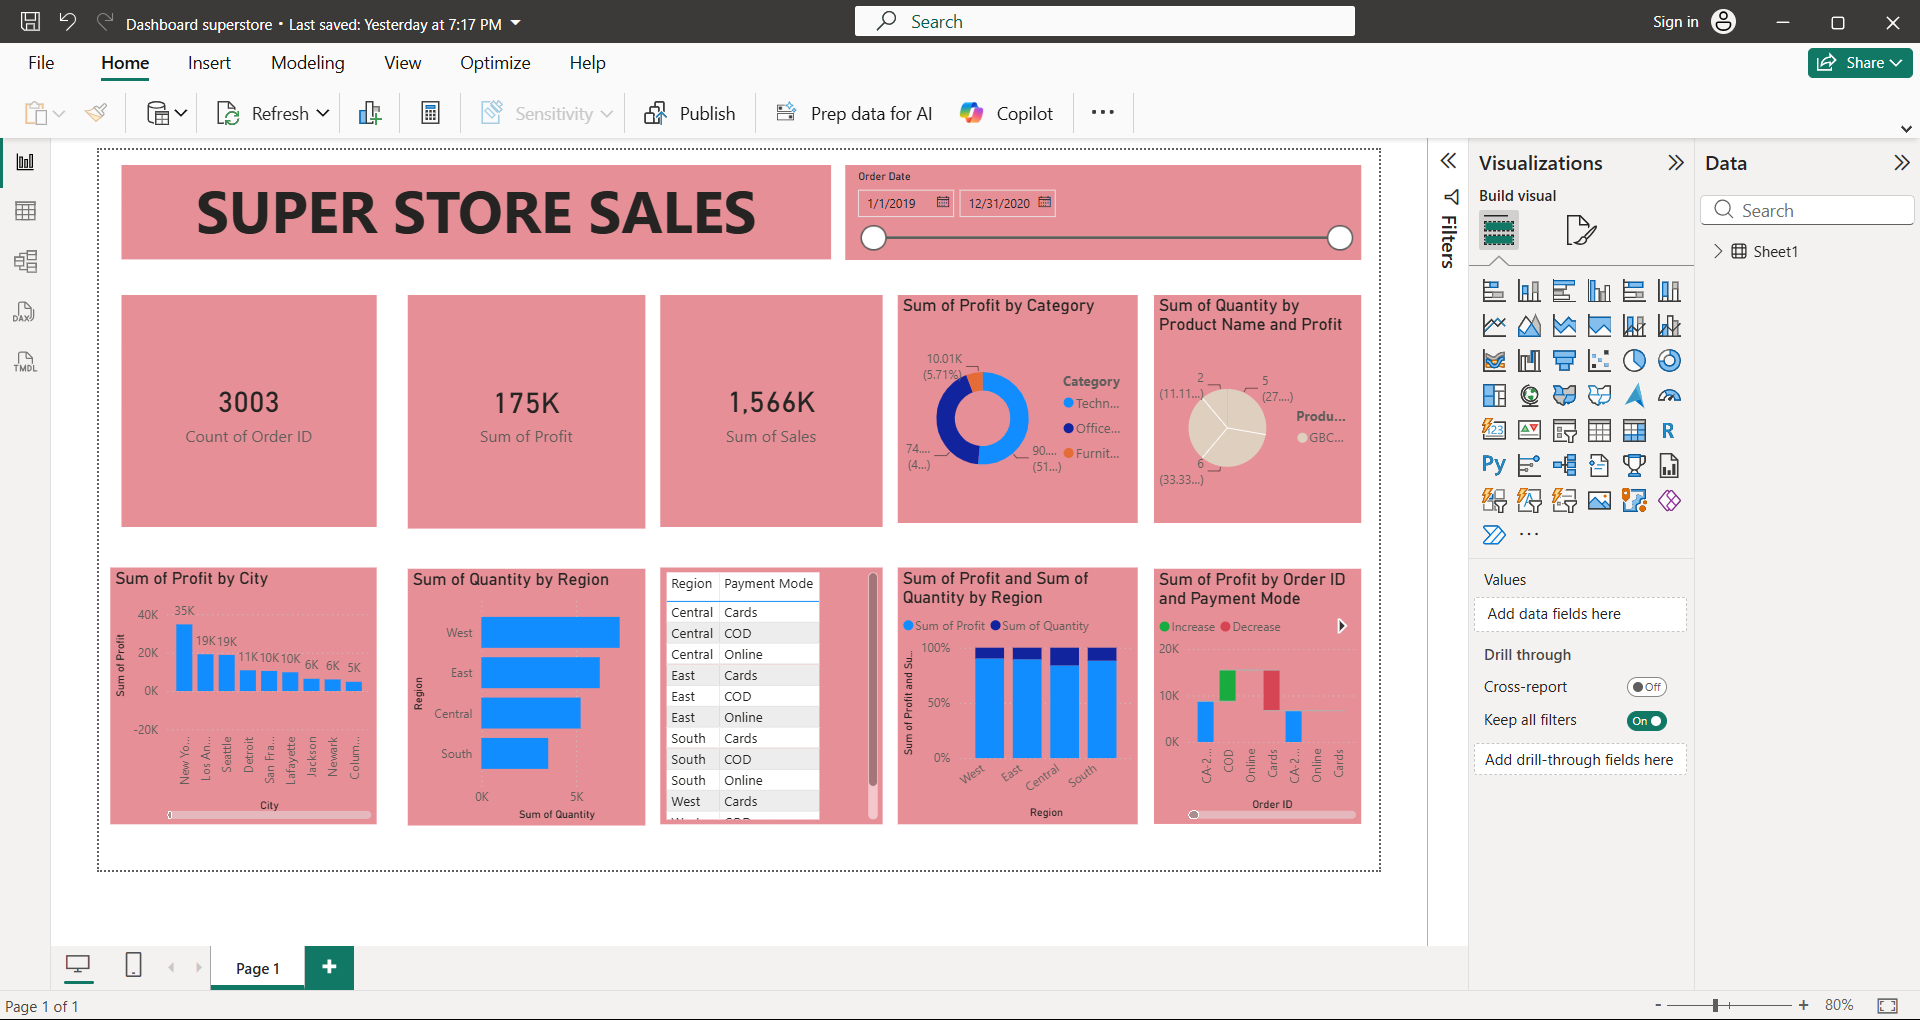

What the dashboard file says about the page in this screenshot:
{"tool":"powerbi","page":{"name":"Page 1","canvas":[1280,720],"ordinal":0},"visuals":[{"type":"columnChart","fields":{"Y":["Sum(Sheet1.Profit)"],"Category":["Sheet1.City"]},"box":[11,417.2,266.2,256.6],"z":0},{"type":"pieChart","fields":{"Y":["Sum(Sheet1.Quantity)"],"Series":["Sheet1.Profit"],"Category":["Sheet1.Product Name"]},"box":[1055.2,145.5,207.2,227.8],"z":1000},{"type":"card","fields":{"Values":["Count(Sheet1.Order ID)"]},"box":[22,145.5,255.2,231.9],"z":2000},{"type":"barChart","fields":{"Category":["Sheet1.Region"],"Y":["Sum(Sheet1.Quantity)"]},"box":[308.7,418.5,237.4,256.6],"z":3000},{"type":"tableEx","fields":{"Values":["Sheet1.Region","Sheet1.Payment Mode"]},"box":[561.2,417.2,222.3,256.6],"z":4000},{"type":"card","fields":{"Values":["Sum(Sheet1.Sales)"]},"box":[561.2,145.5,222.3,231.9],"z":5000},{"type":"slicer","fields":{"Values":["Sheet1.Order Date"]},"box":[746.5,15.1,516,94.7],"z":6000},{"type":"textbox","box":[22,15.1,709.4,94.7],"z":7000},{"type":"hundredPercentStackedColumnChart","fields":{"Y":["Sum(Sheet1.Profit)","Sum(Sheet1.Quantity)"],"Category":["Sheet1.Region"]},"box":[798.6,417.2,240.1,256.6],"z":8000},{"type":"card","fields":{"Values":["Sum(Sheet1.Profit)"]},"box":[308.7,145.5,237.4,233.3],"z":9000},{"type":"donutChart","fields":{"Category":["Sheet1.Category"],"Y":["Sum(Sheet1.Profit)"]},"box":[798.6,145.5,240.1,227.8],"z":10000},{"type":"waterfallChart","fields":{"Category":["Sheet1.Order ID"],"Breakdown":["Sheet1.Payment Mode"],"Y":["Sum(Sheet1.Profit)"]},"box":[1055.2,418.5,207.2,255.2],"z":11000}]}

Visuals, with their boxes on the page's 1280x720 design canvas (x1, y1, x2, y2). These are canvas units, not pixel positions in the 1920x1020 screenshot, which may show the page scaled, cropped or inside an application window:
columnChart - Sum(Sheet1.Profit) x Sheet1.City: Rect(11, 417, 277, 674)
pieChart - Sum(Sheet1.Quantity) x Sheet1.Profit: Rect(1055, 146, 1262, 373)
card - Count(Sheet1.Order ID): Rect(22, 146, 277, 377)
barChart - Sheet1.Region x Sum(Sheet1.Quantity): Rect(309, 418, 546, 675)
tableEx - Sheet1.Region x Sheet1.Payment Mode: Rect(561, 417, 784, 674)
card - Sum(Sheet1.Sales): Rect(561, 146, 784, 377)
slicer - Sheet1.Order Date: Rect(746, 15, 1262, 110)
textbox: Rect(22, 15, 731, 110)
hundredPercentStackedColumnChart - Sum(Sheet1.Profit) x Sum(Sheet1.Quantity): Rect(799, 417, 1039, 674)
card - Sum(Sheet1.Profit): Rect(309, 146, 546, 379)
donutChart - Sheet1.Category x Sum(Sheet1.Profit): Rect(799, 146, 1039, 373)
waterfallChart - Sheet1.Order ID x Sheet1.Payment Mode: Rect(1055, 418, 1262, 674)
